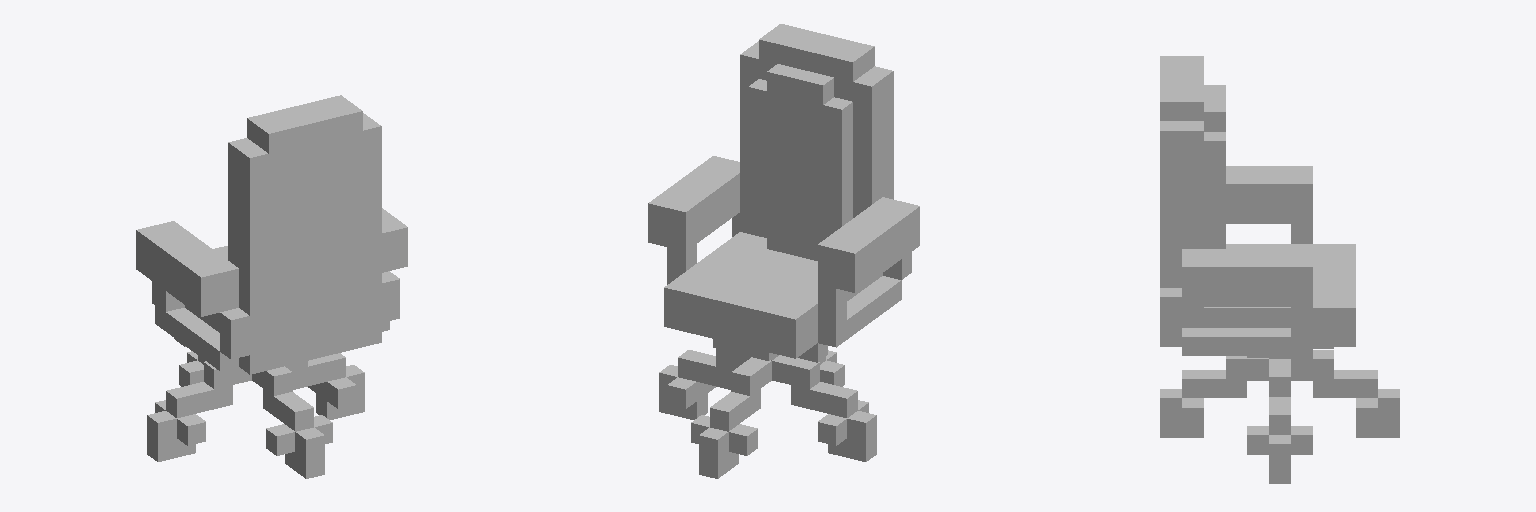
Rendered from Chair.obj.
3 renders of one model, left to right at view 1: azimuth 30°, elevation 25°; view 2: azimuth 150°, elevation 25°; view 3: azimuth 270°, elevation 25°, orthographic.
Bounding box in the file's own units: 11 × 18 × 11.